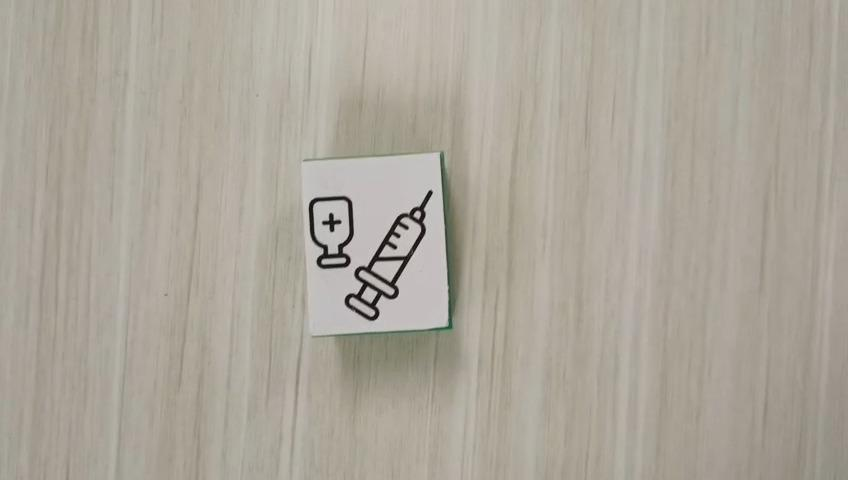antiseptic cream: (301, 150, 451, 337)
